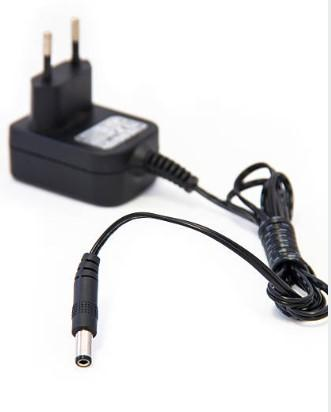cable: (10, 20, 329, 368)
